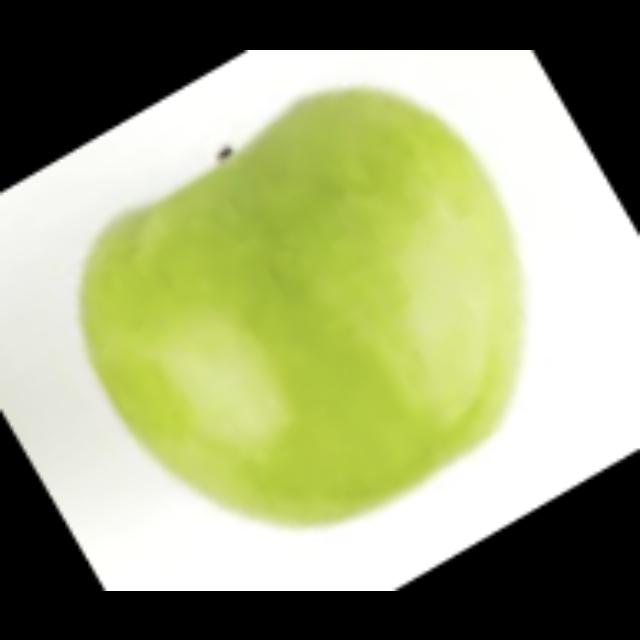Apel Segar: (68, 76, 536, 536)
